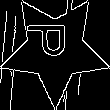P_E: (31, 31, 79, 67)
